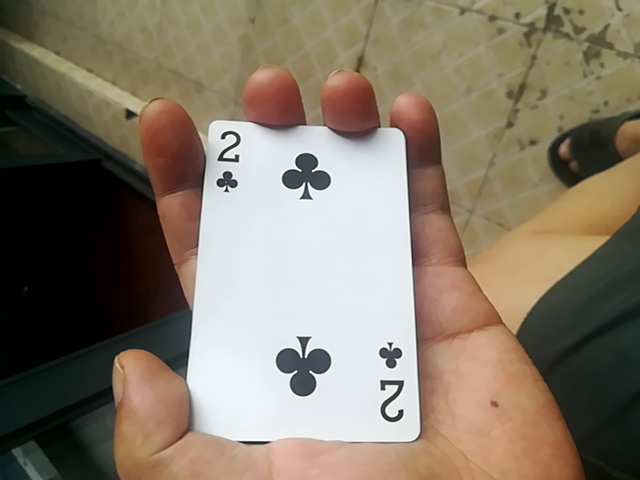mh 2: (174, 130, 431, 446)
